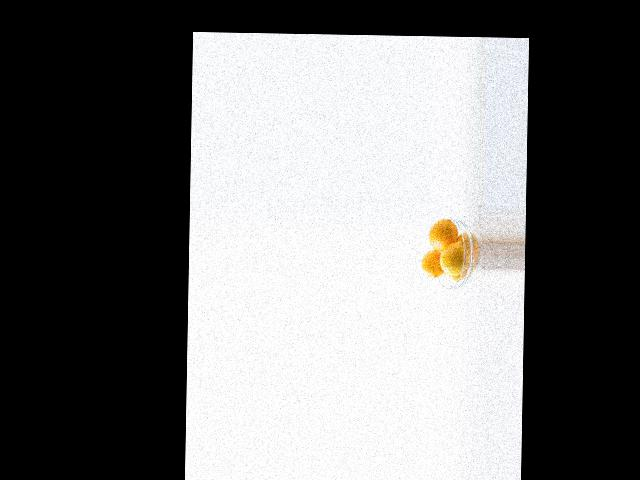lemon: (428, 216, 454, 253)
